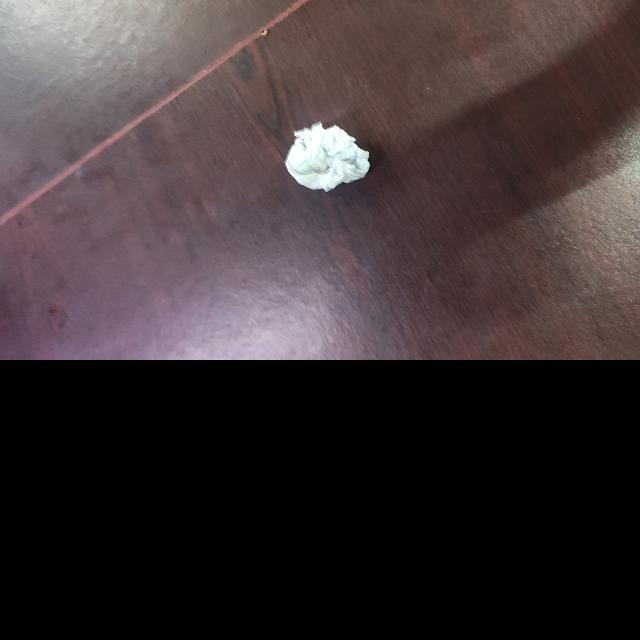kitchen paper: (287, 121, 373, 196)
